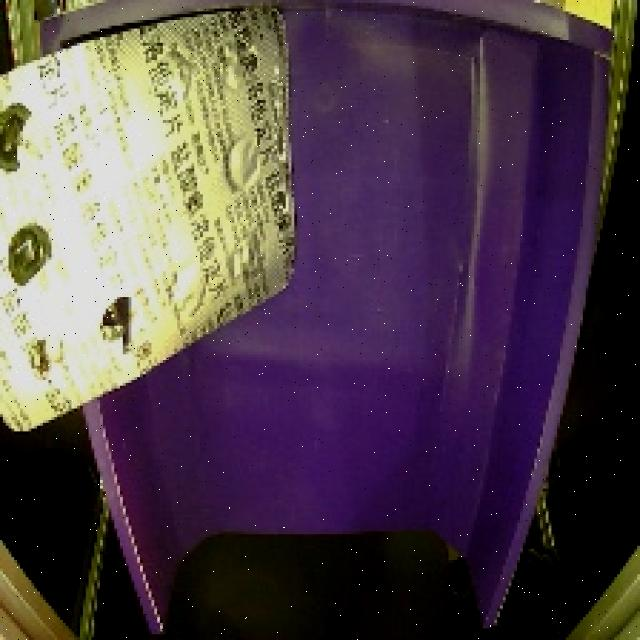med_plate: (0, 0, 320, 449)
